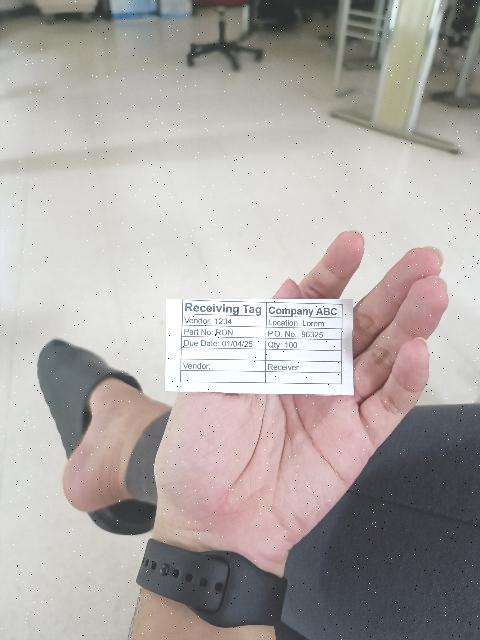PO no: (266, 326, 342, 339)
part no: (182, 324, 266, 338)
qty: (265, 337, 342, 351)
tags: (165, 298, 354, 396)
